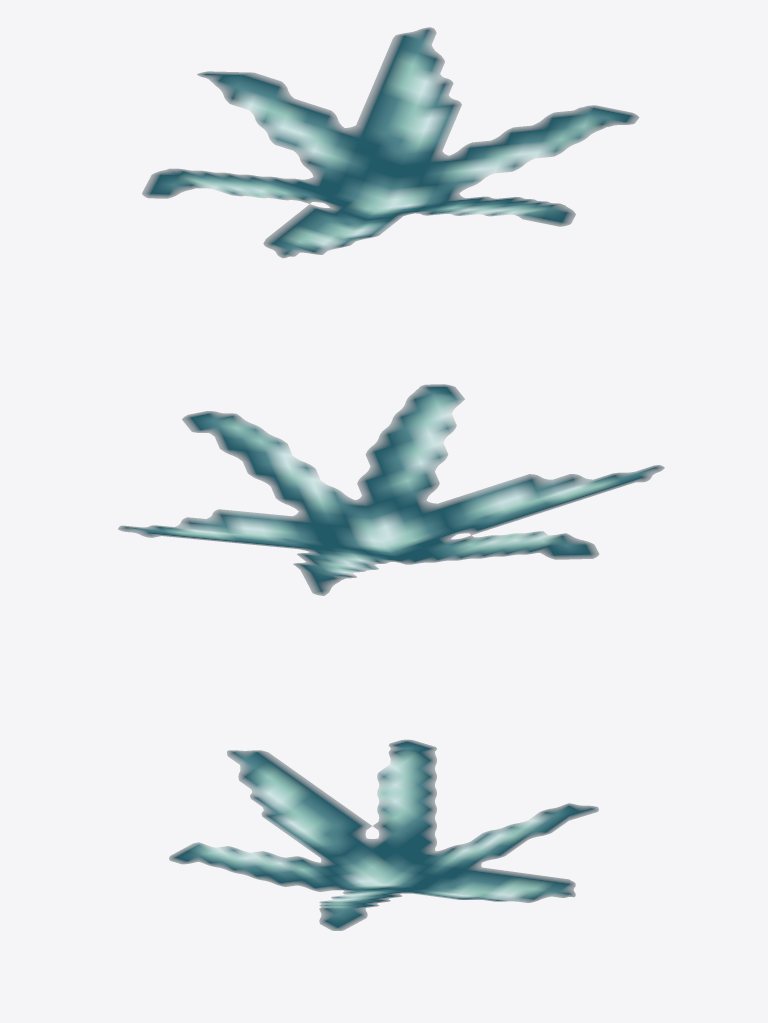
File: plant_Snowy.fbx
The picture shows the model from 3 angles, top to bottom: view 1: azimuth 30°, elevation 25°; view 2: azimuth 150°, elevation 25°; view 3: azimuth 270°, elevation 25°; orthographic projection. The views are drawn at different scales.
Visible parts, largest first — view 1: plant_Snowy; view 2: plant_Snowy; view 3: plant_Snowy.
Boxes of the visible parts, x1,y1,x2,y2 form: plant_Snowy: (142,27,639,258); plant_Snowy: (118,384,664,595); plant_Snowy: (169,739,598,930).
Size of the model in its own units: 1.41 by 0.1116 by 1.41.
